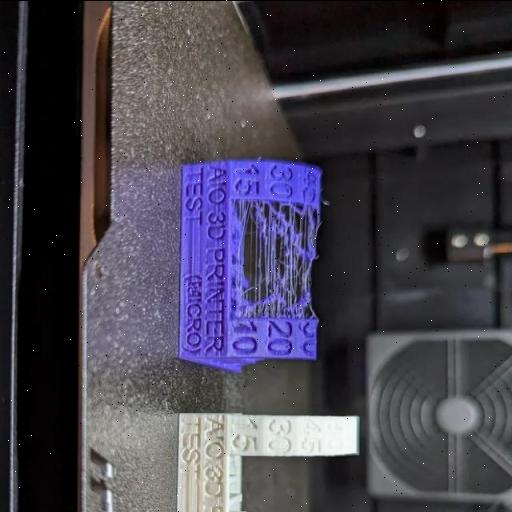stringing: (229, 199, 316, 315)
